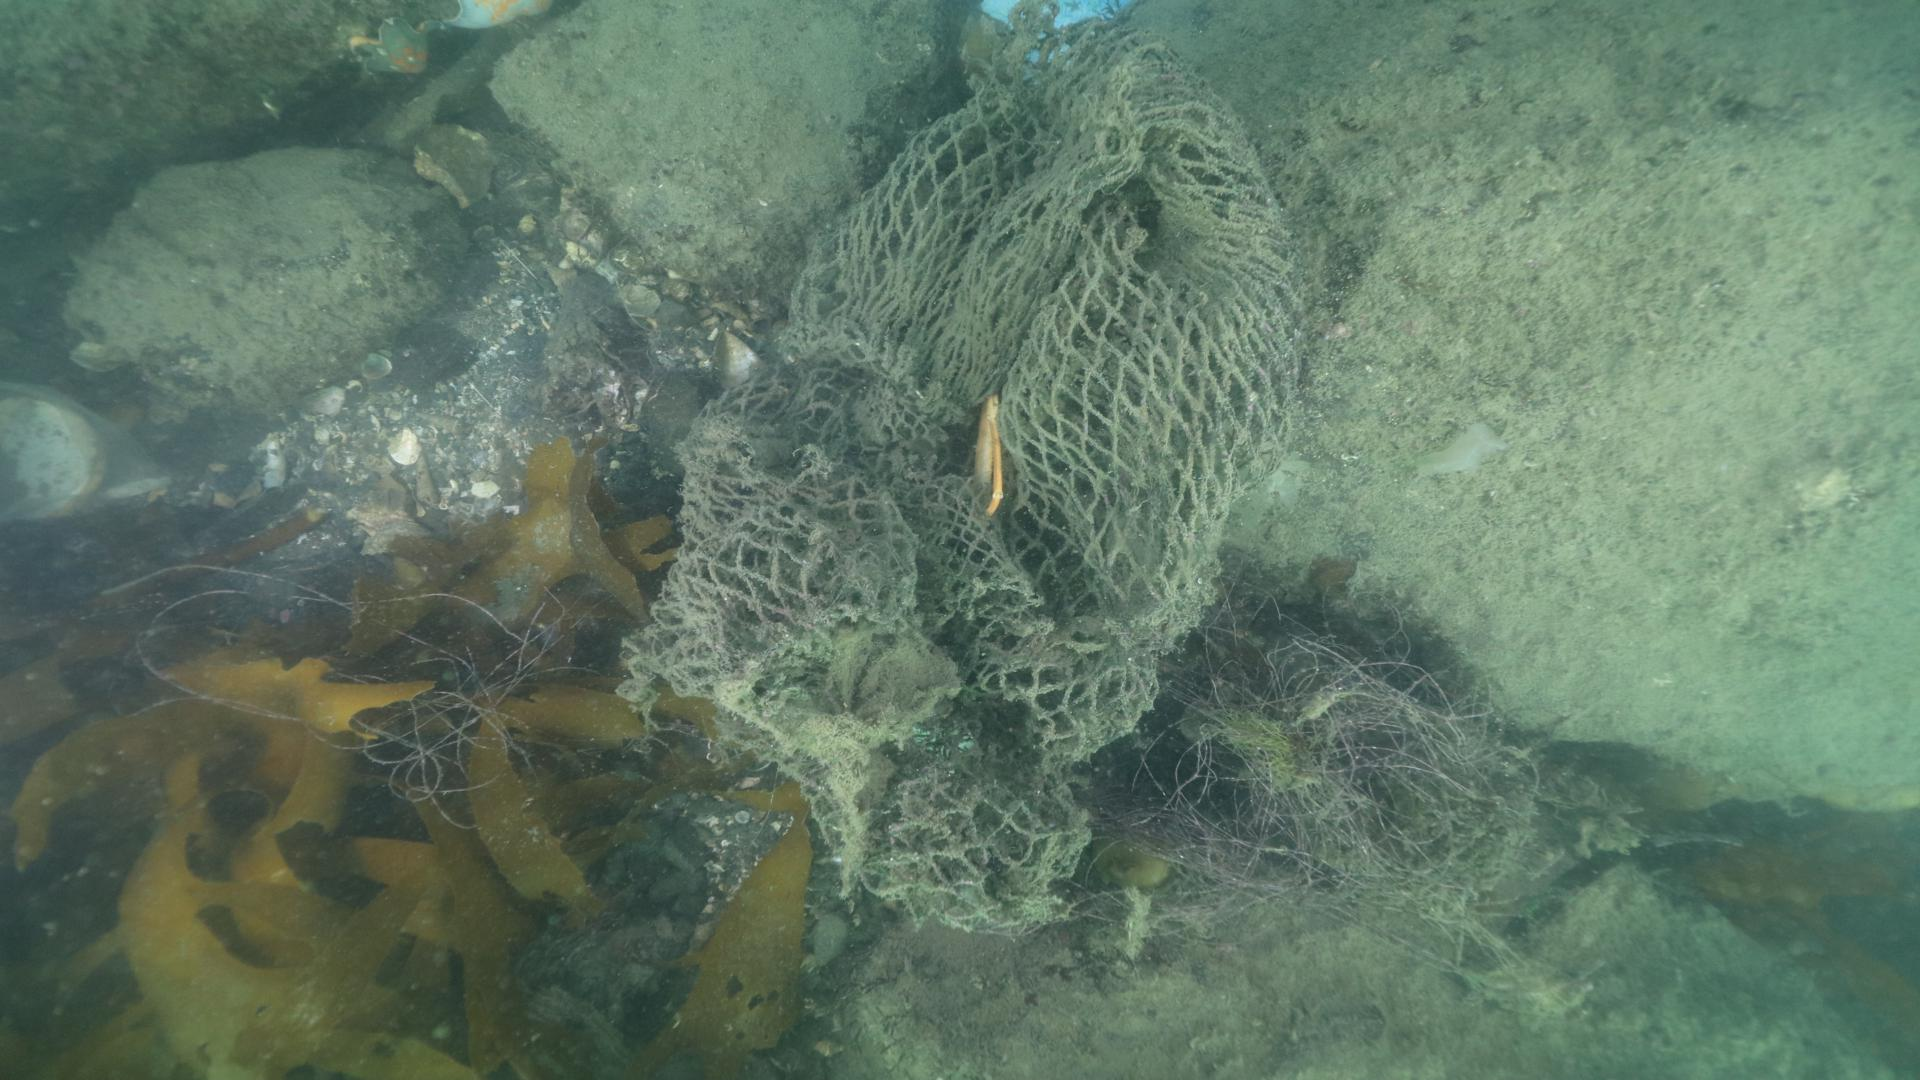fish net: (615, 26, 1312, 932)
